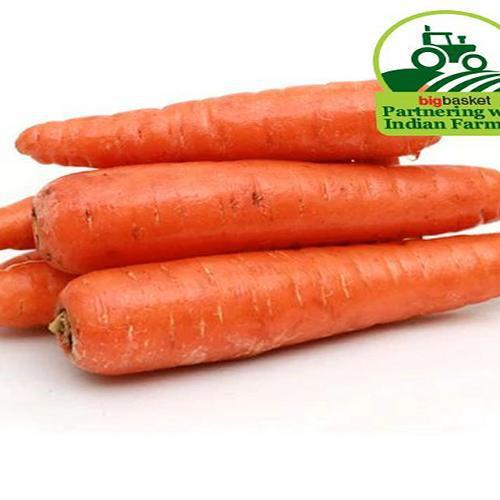carrot: (28, 99, 385, 332), (8, 242, 500, 378)
